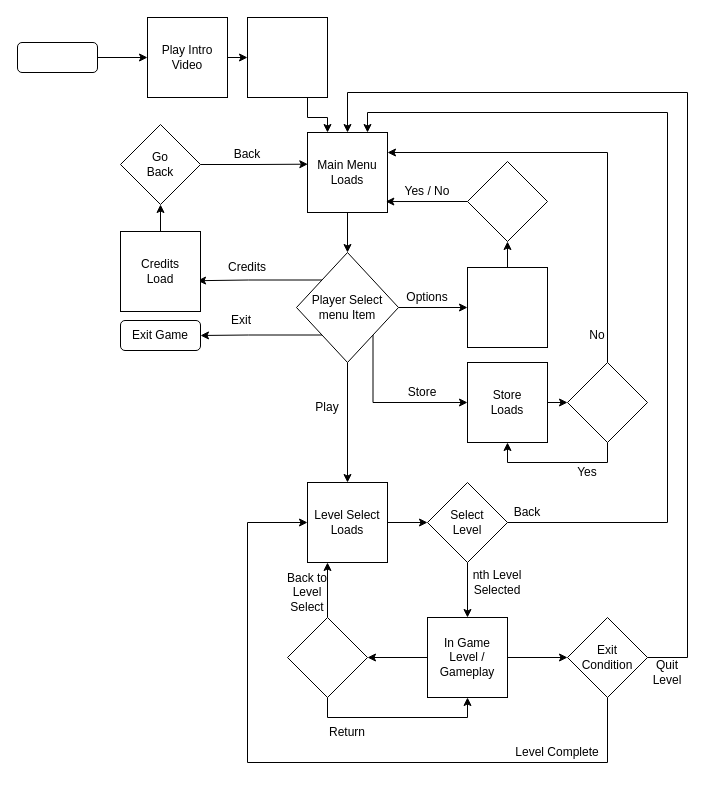
The diagram is 713 pixels wide and 788 high, and some of its shapes have lost their labels. The centre of each missing label's shape, as x and y in pixels:
Options Loads: the point at 507,307
Pause Menu: the point at 327,657
Player Press Start: the point at 287,57
Purchased: the point at 607,402
Save Options: the point at 507,201
START: the point at 57,57
